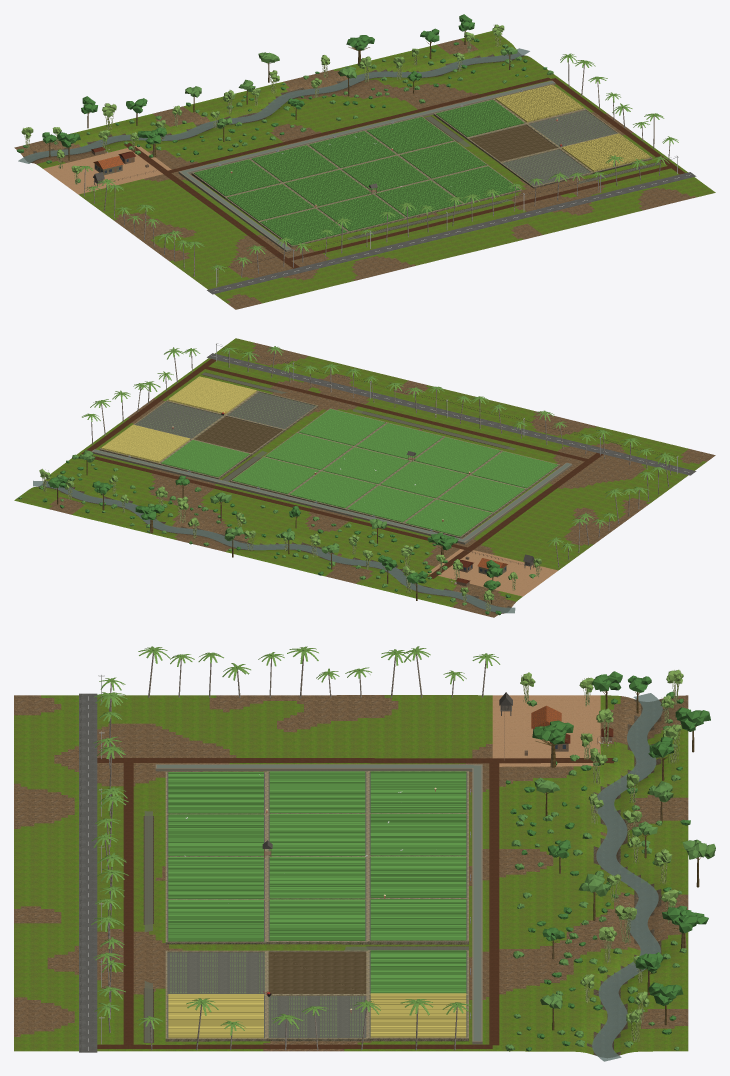
The picture shows the model from 3 angles, top to bottom: view 1: azimuth 30°, elevation 25°; view 2: azimuth 150°, elevation 25°; view 3: azimuth 270°, elevation 25°; orthographic projection. The views are drawn at different scales.
Parts seen in each view (by area): view 1: ground_base, rice_rows_healthy, paddy_bunds_pematang, rice_rows_yellow, paddy_plot_mud_base, paddy_water_surface, stream_small_river, road_asphalt_south, irrigation_canal_concrete, paddy_plot_plowed, road_dirt_north, road_dirt_south_inner (+7 smaller); view 2: ground_base, rice_rows_healthy, paddy_bunds_pematang, rice_rows_yellow, paddy_plot_mud_base, paddy_water_surface, stream_small_river, road_asphalt_south, irrigation_canal_concrete, paddy_plot_plowed, road_dirt_south_inner, road_dirt_north (+7 smaller); view 3: ground_base, rice_rows_healthy, paddy_water_surface, paddy_plot_mud_base, rice_rows_yellow, paddy_bunds_pematang, stream_small_river, road_asphalt_south, irrigation_canal_concrete, paddy_plot_plowed, road_dirt_north, road_dirt_south_inner (+9 smaller).
Part boxes in pixels (x1,y1,x2,y2): ground_base: [14, 31, 715, 309]; rice_rows_healthy: [194, 99, 524, 245]; paddy_bunds_pematang: [192, 86, 652, 247]; rice_rows_yellow: [495, 84, 650, 171]; paddy_plot_mud_base: [191, 110, 646, 246]; paddy_water_surface: [503, 110, 616, 186]; stream_small_river: [18, 48, 529, 163]; road_asphalt_south: [207, 172, 696, 294]; irrigation_canal_concrete: [178, 80, 555, 251]; paddy_plot_plowed: [467, 125, 557, 161]; road_dirt_north: [166, 77, 551, 173]; road_dirt_south_inner: [285, 166, 671, 261]; ground_base: [14, 338, 715, 617]; rice_rows_healthy: [161, 409, 558, 536]; paddy_bunds_pematang: [99, 377, 560, 538]; rice_rows_yellow: [101, 376, 256, 462]; paddy_plot_mud_base: [100, 392, 506, 538]; paddy_water_surface: [135, 392, 315, 438]; stream_small_river: [33, 480, 515, 613]; road_asphalt_south: [207, 353, 696, 475]; irrigation_canal_concrete: [91, 449, 572, 544]; paddy_plot_plowed: [194, 416, 284, 453]; road_dirt_south_inner: [205, 366, 590, 462]; road_dirt_north: [92, 456, 469, 549]; ground_base: [14, 695, 688, 1057]; rice_rows_healthy: [168, 771, 466, 993]; paddy_water_surface: [167, 772, 467, 1038]; paddy_plot_mud_base: [166, 773, 468, 1041]; rice_rows_yellow: [168, 993, 466, 1038]; paddy_bunds_pematang: [165, 771, 468, 1041]; stream_small_river: [592, 693, 662, 1061]; road_asphalt_south: [79, 693, 97, 1052]; irrigation_canal_concrete: [155, 764, 482, 1044]; paddy_plot_plowed: [268, 952, 366, 993]; road_dirt_north: [489, 761, 499, 1045]; road_dirt_south_inner: [123, 760, 133, 1045].
Size of the model in its own units: 260 by 19.28 by 208.
42 materials, 18 textured.
